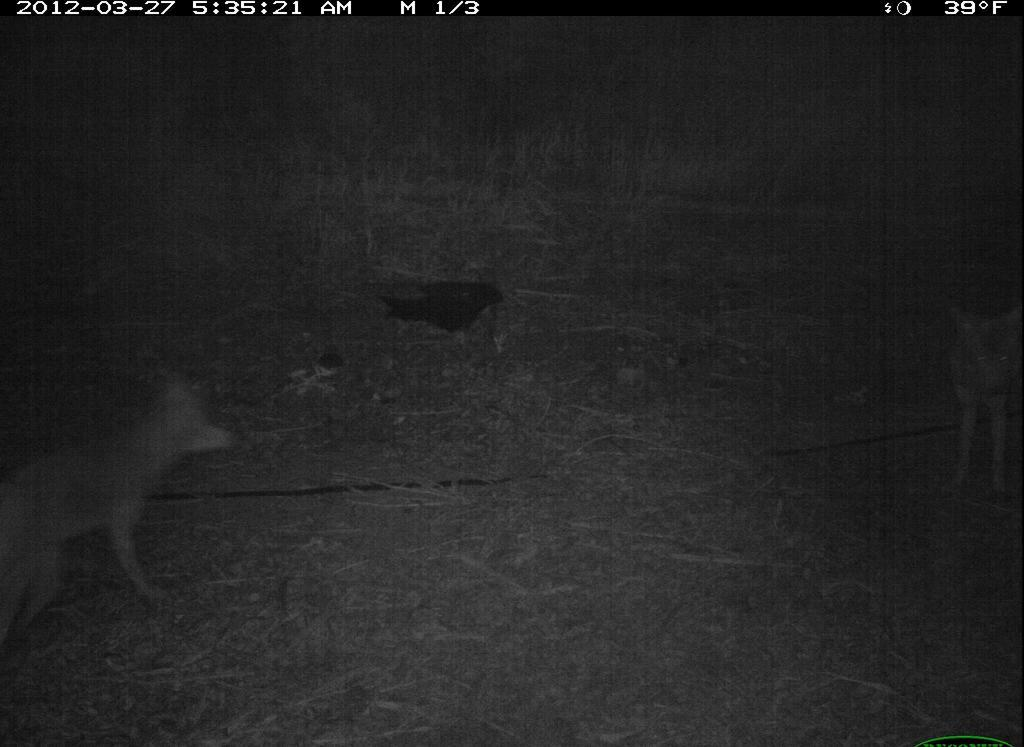coyote: (3, 373, 239, 648)
